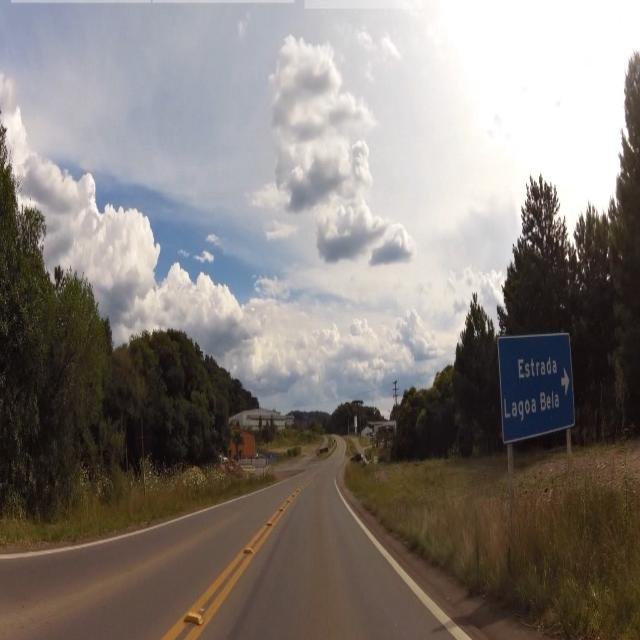LOC-6: (499, 336, 579, 431)
